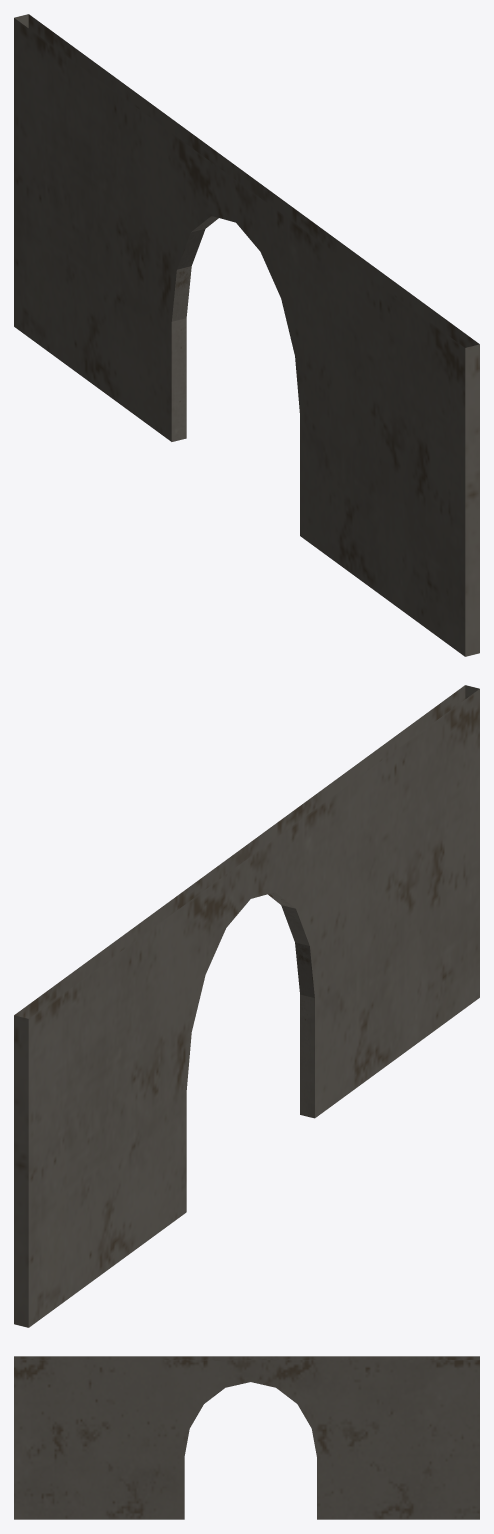
File: Wall entrance neighbor's house kitchen.fbx
3 renders of one model, top to bottom at view 1: azimuth 30°, elevation 25°; view 2: azimuth 150°, elevation 25°; view 3: azimuth 270°, elevation 25°, orthographic. The views are drawn at different scales.
Visible parts, largest first — view 1: Parede entrada cozinha; view 2: Parede entrada cozinha; view 3: Parede entrada cozinha.
Part boxes in pixels (x1,y1,x2,y2): Parede entrada cozinha: (14,14,479,656); Parede entrada cozinha: (14,685,479,1327); Parede entrada cozinha: (14,1356,479,1519).
Size of the model in its own units: 15.03 by 299 by 792.
